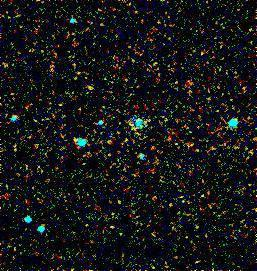star: (93, 126, 123, 156)
